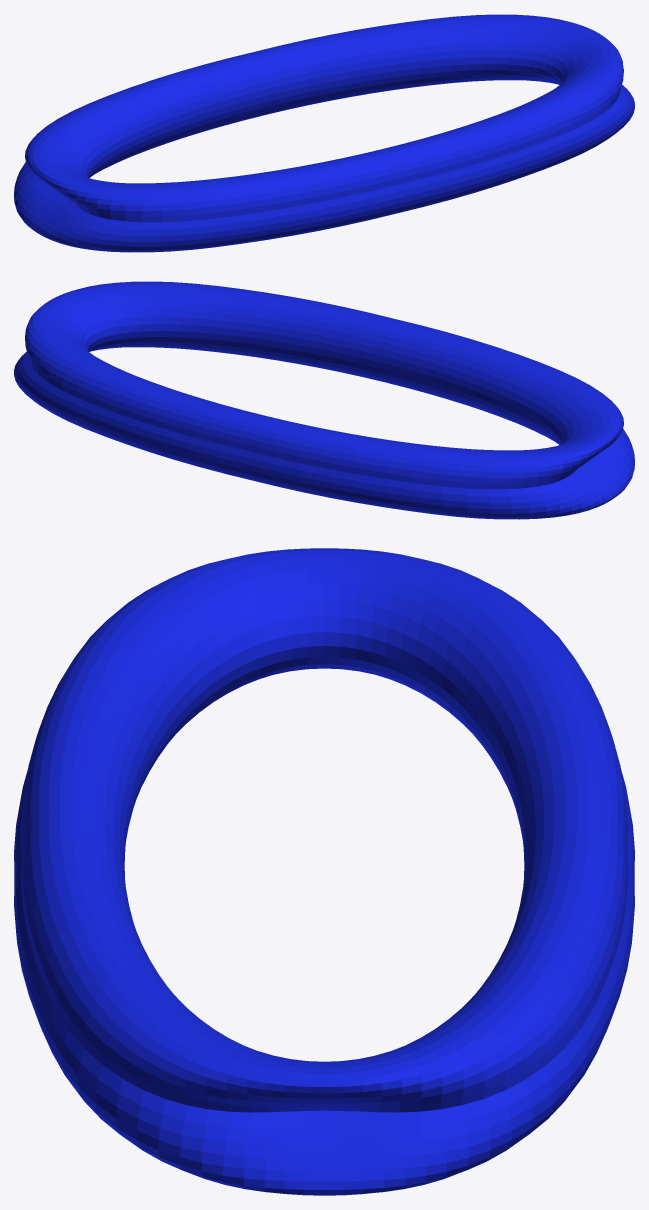
Rendered from BlueRing.gltf.
3 renders of one model, top to bottom at view 1: azimuth 30°, elevation 25°; view 2: azimuth 150°, elevation 25°; view 3: azimuth 270°, elevation 25°, orthographic. The views are drawn at different scales.
Parts seen in each view (by area): view 1: Torus.002; view 2: Torus.002; view 3: Torus.002.
Part boxes in pixels (<box>): Torus.002: <box>14,14,634,252</box>; Torus.002: <box>14,281,634,519</box>; Torus.002: <box>14,548,634,1195</box>.
Size of the model in its own units: 3.13 by 0.3101 by 1.48.
